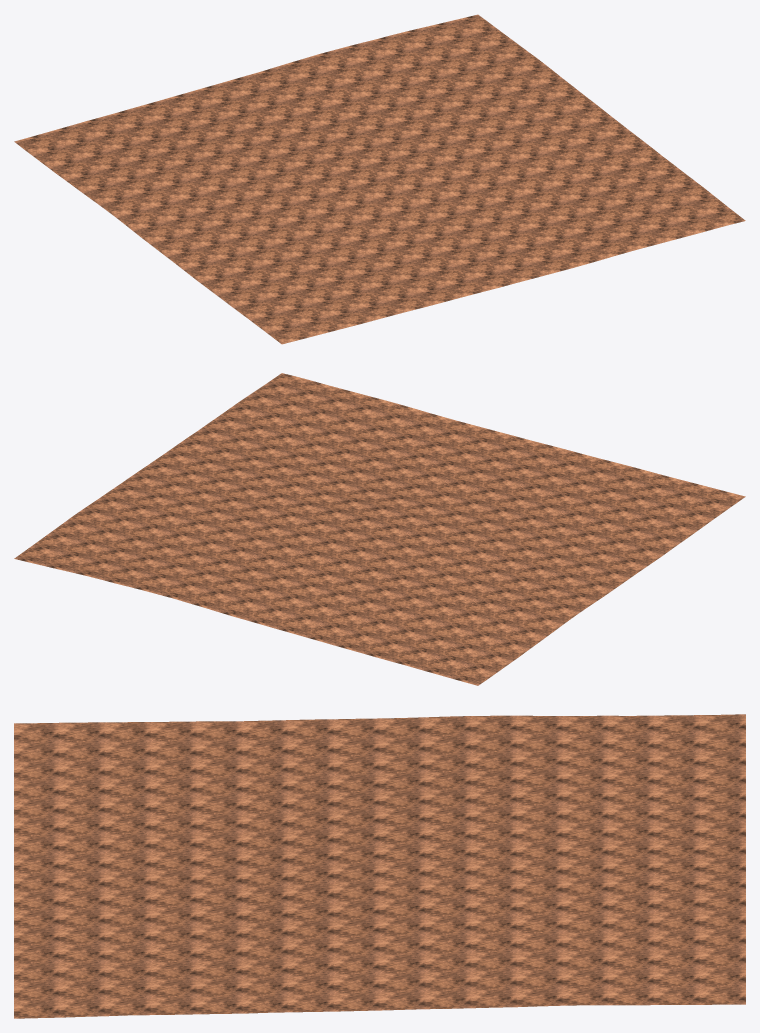
The model's file is terrain_09_12.dae.
3 renders of one model, top to bottom at view 1: azimuth 30°, elevation 25°; view 2: azimuth 150°, elevation 25°; view 3: azimuth 270°, elevation 25°, orthographic. The views are drawn at different scales.
Parts seen in each view (by area): view 1: terrain_09_12-node; view 2: terrain_09_12-node; view 3: terrain_09_12-node.
Boxes of the visible parts, box(x1,y1,x2,y2) form: terrain_09_12-node: box(14, 14, 745, 344); terrain_09_12-node: box(14, 373, 745, 685); terrain_09_12-node: box(14, 714, 745, 1018).
Size of the model in its own units: 128 by 128 by 5.59.
1 material, 1 textured.
